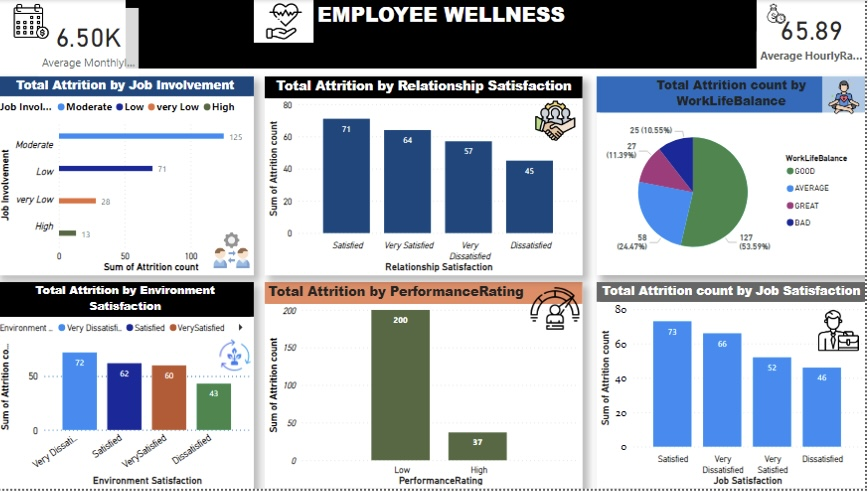

What the dashboard file says about the page in this screenshot:
{"tool":"powerbi","page":{"name":"Page 4","canvas":[1280,720],"ordinal":3},"visuals":[{"type":"columnChart","title":"Total Attrition by Environment Satisfaction","fields":{"Category":["HR-Employee-Attrition.Environment Satisfaction"],"Y":["Sum(HR-Employee-Attrition.Attrition count)"],"Series":["HR-Employee-Attrition.Environment Satisfaction"]},"box":[0,415.6,379,304.4],"z":0},{"type":"textbox","title":"EMPLOYEE WELLNESS","box":[190.2,0,929.3,101],"z":1},{"type":"clusteredBarChart","title":"Total Attrition by Job Involvement ","fields":{"Category":["HR-Employee-Attrition.Job Involvement"],"Y":["Sum(HR-Employee-Attrition.Attrition count)"],"Series":["HR-Employee-Attrition.Job Involvement"]},"box":[0,112.7,379,292.7],"z":2},{"type":"columnChart","title":"Total Attrition by PerformanceRating","fields":{"Category":["HR-Employee-Attrition.PerformanceRating (groups)"],"Y":["Sum(HR-Employee-Attrition.Attrition count)"]},"box":[395.1,415.6,468.3,304.4],"z":3},{"type":"columnChart","title":"Total Attrition by Relationship Satisfaction","fields":{"Category":["HR-Employee-Attrition.Relationship Satisfaction"],"Y":["Sum(HR-Employee-Attrition.Attrition count)"]},"box":[395.1,112.7,468.3,292.7],"z":4},{"type":"pieChart","title":"Total Attrition count by WorkLifeBalance","fields":{"Category":["HR-Employee-Attrition.WorkLifeBalance (groups)"],"Y":["Sum(HR-Employee-Attrition.Attrition count)"]},"box":[883.9,112.7,396.6,292.7],"z":5},{"type":"columnChart","title":"Total Attrition count by Job Satisfaction","fields":{"Y":["Sum(HR-Employee-Attrition.Attrition count)"],"Category":["HR-Employee-Attrition.Job Satisfaction"]},"box":[883.9,415.6,396.6,304.4],"z":6},{"type":"card","fields":{"Values":["Avg(HR-Employee-Attrition.HourlyRate)"]},"box":[1119.5,0,161,103.9],"z":7},{"type":"card","fields":{"Values":["Avg(HR-Employee-Attrition.MonthlyIncome)"]},"box":[61.5,11.7,147.8,101],"z":8},{"type":"image","box":[11.7,0,79,62.9],"z":9},{"type":"image","box":[379,0,87.8,62.9],"z":10},{"type":"image","box":[1119.5,0,57.1,39.5],"z":11},{"type":"image","box":[323.4,493.2,55.6,58.5],"z":12},{"type":"image","box":[313.2,330.7,65.9,74.6],"z":13},{"type":"image","box":[781.5,143.4,82,68.8],"z":14},{"type":"image","box":[781.5,405.4,82,98],"z":15},{"type":"image","box":[1200,450.7,80.5,71.7],"z":16},{"type":"image","box":[1216.1,112.7,64.4,60],"z":17}]}

Visuals, with their boxes in screenshot pixels (x1, y1, x2, y2), scaled from the page's 1280x720 canvas onto the 868x492 screenshot:
"Total Attrition by Environment Satisfaction" columnChart: BBox(0, 284, 257, 491)
"EMPLOYEE WELLNESS" textbox: BBox(129, 0, 759, 69)
"Total Attrition by Job Involvement " clusteredBarChart: BBox(0, 77, 257, 277)
"Total Attrition by PerformanceRating" columnChart: BBox(268, 284, 585, 491)
"Total Attrition by Relationship Satisfaction" columnChart: BBox(268, 77, 585, 277)
"Total Attrition count by WorkLifeBalance" pieChart: BBox(599, 77, 867, 277)
"Total Attrition count by Job Satisfaction" columnChart: BBox(599, 284, 867, 491)
card - Avg(HR-Employee-Attrition.HourlyRate): BBox(759, 0, 867, 71)
card - Avg(HR-Employee-Attrition.MonthlyIncome): BBox(42, 8, 142, 77)
image: BBox(8, 0, 62, 43)
image: BBox(257, 0, 317, 43)
image: BBox(759, 0, 798, 27)
image: BBox(219, 337, 257, 377)
image: BBox(212, 226, 257, 277)
image: BBox(530, 98, 586, 145)
image: BBox(530, 277, 586, 344)
image: BBox(814, 308, 867, 357)
image: BBox(825, 77, 867, 118)
